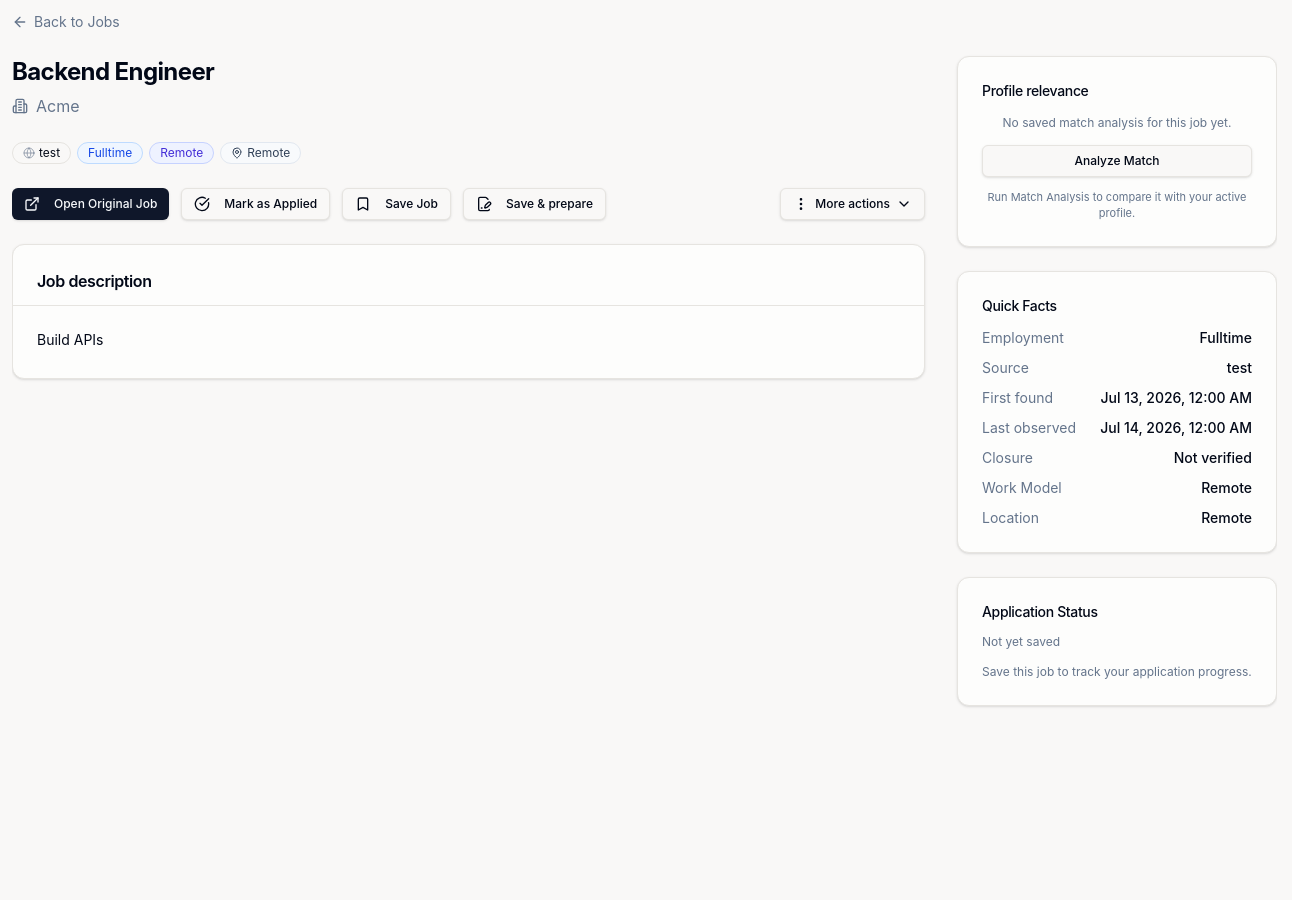
JobDetailView readiness › analyzes and displays the current job without batch ranking
Click the button "Analyze Match".
click(1117, 160)  # box [982, 144, 1252, 176]
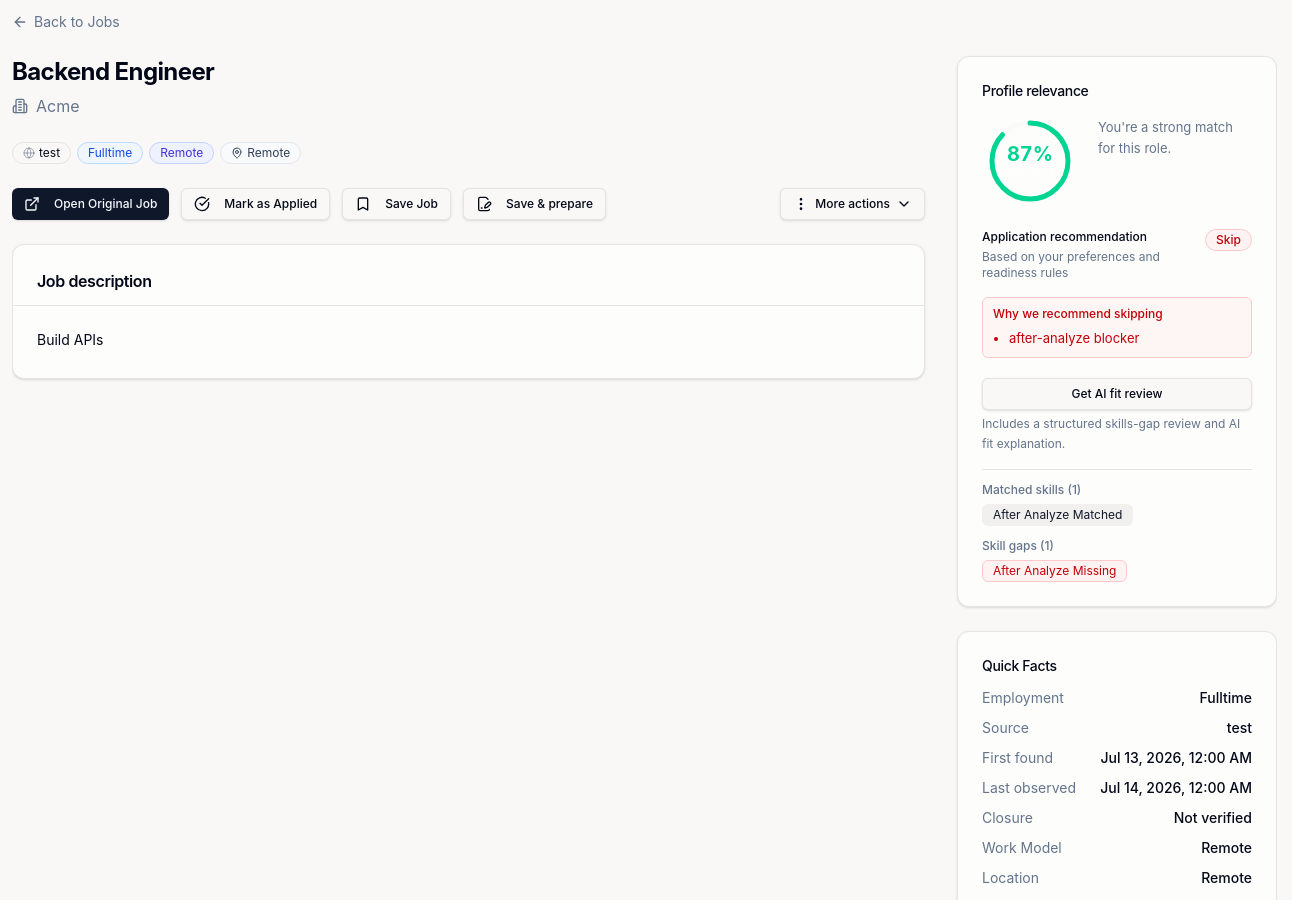
expect the text "after-analyze blocker" is shown: met, box [1009, 330, 1139, 346]
